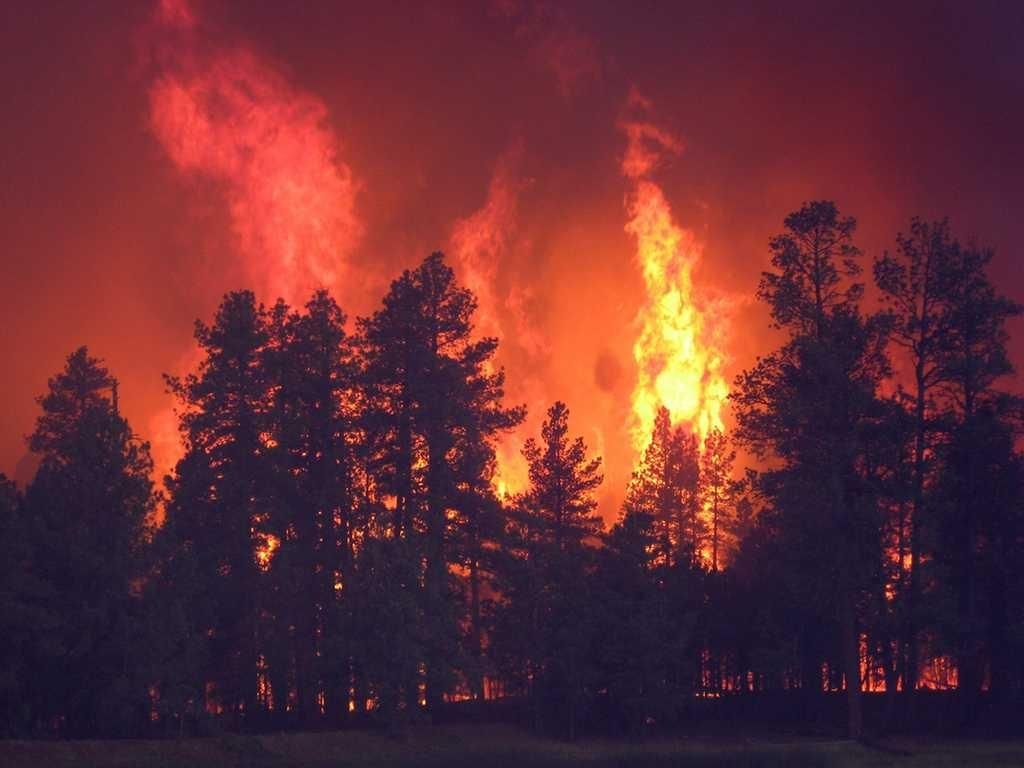fire: (128, 36, 384, 281), (589, 102, 744, 454)
